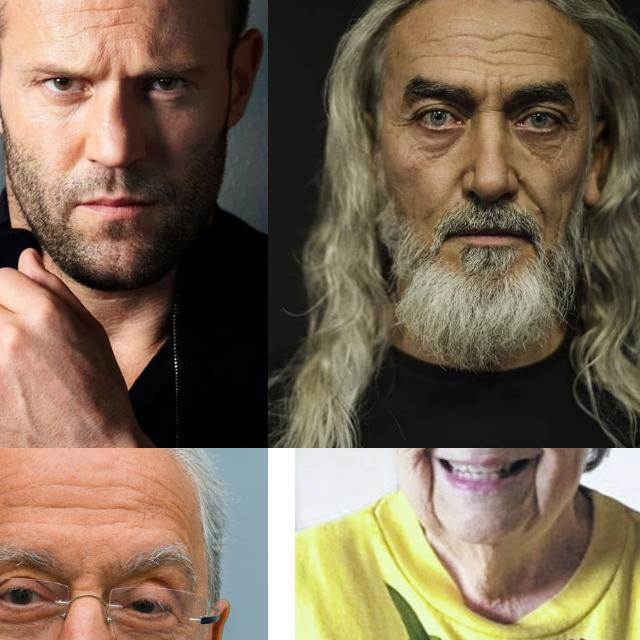crows_feet: (391, 110, 415, 132), (174, 613, 191, 640), (563, 117, 585, 137)
forehead: (22, 482, 144, 530), (76, 1, 154, 44), (468, 28, 562, 61), (156, 482, 194, 542), (412, 33, 446, 67)
frown_line: (479, 72, 506, 108), (70, 574, 100, 598)
gummy_smile: (511, 172, 544, 212), (420, 448, 452, 458)
masseter: (555, 196, 567, 244)
sad_smile: (418, 459, 446, 521), (524, 464, 544, 518)
